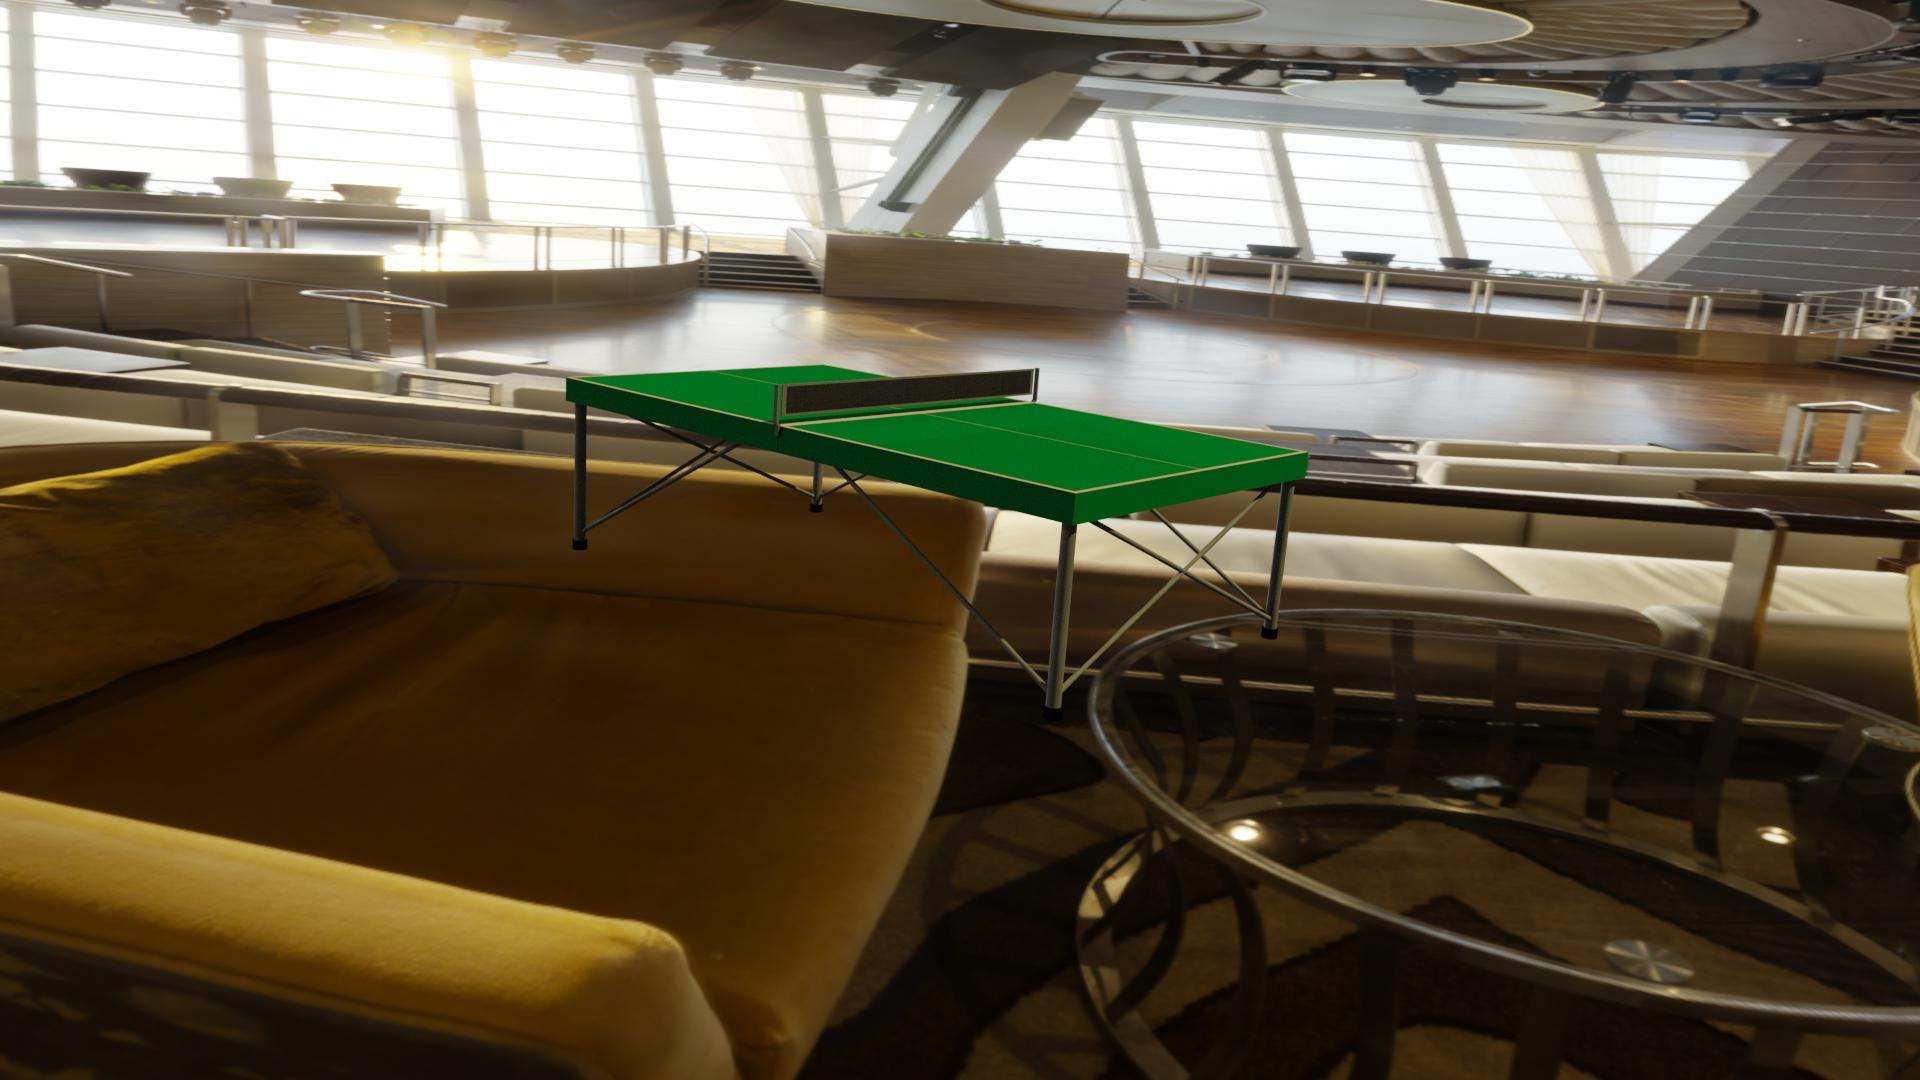table: (572, 365, 1302, 492)
